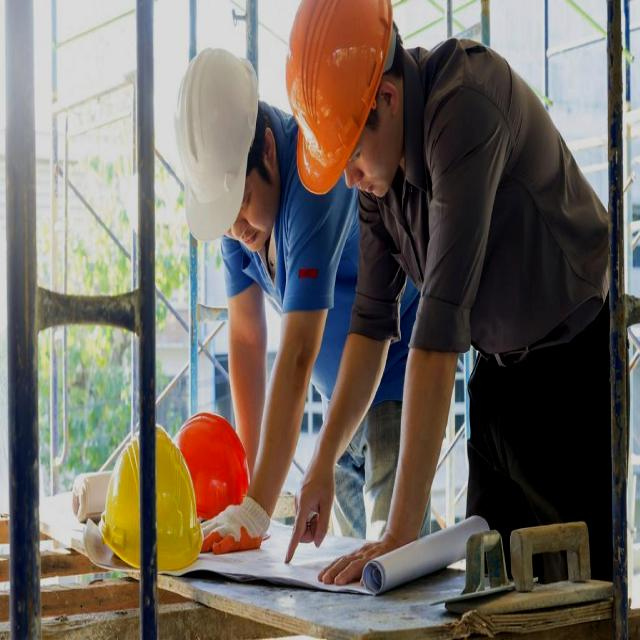face_nomask: (221, 170, 278, 258), (342, 123, 386, 200)
hand_glove: (190, 489, 272, 561)
hand_noglove: (319, 524, 415, 606), (282, 465, 339, 572)
head_helmet: (291, 1, 394, 190), (170, 46, 258, 243), (100, 424, 198, 566), (178, 411, 252, 515)
person: (304, 1, 606, 604), (172, 83, 406, 541)
